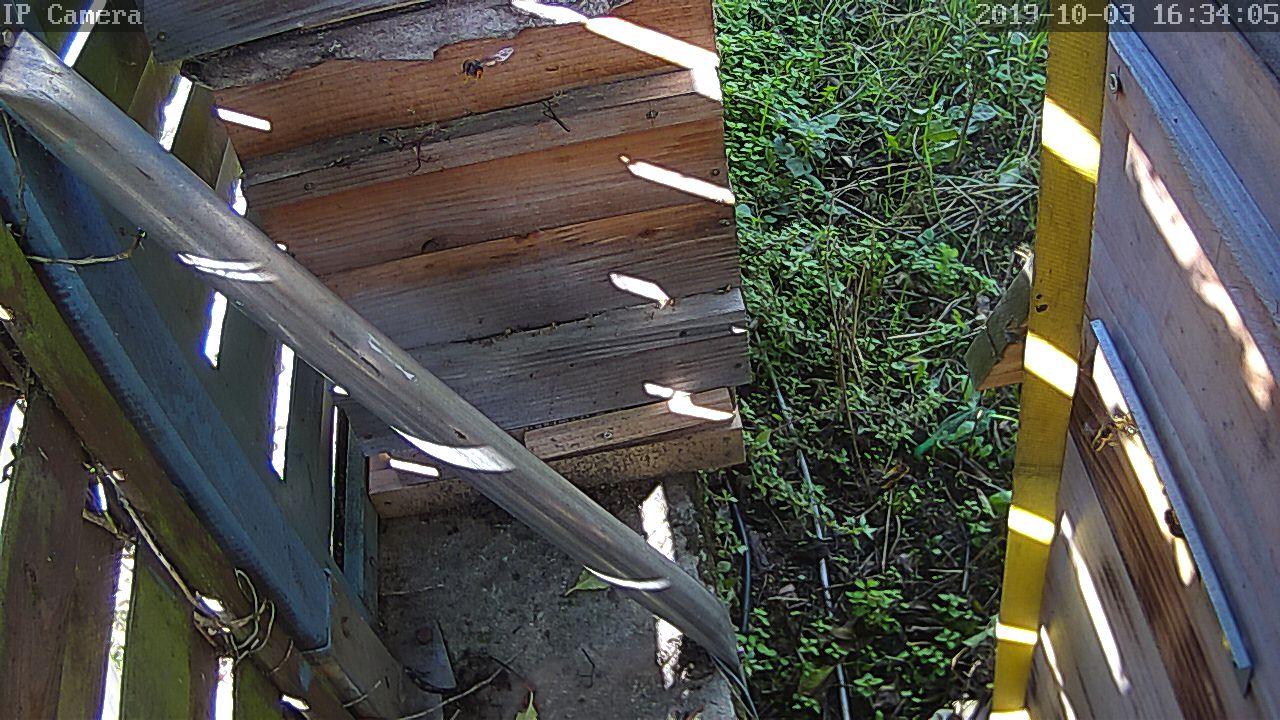bee: (1086, 419, 1121, 458), (1107, 407, 1144, 443)
hornet: (445, 47, 499, 91)
